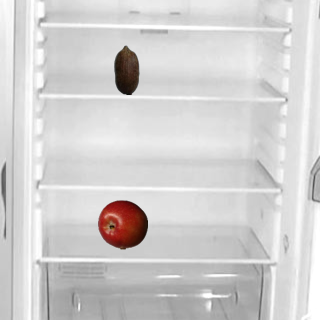Apple Braeburn: (97, 199, 147, 249)
Nut Pecan: (101, 44, 151, 94)
